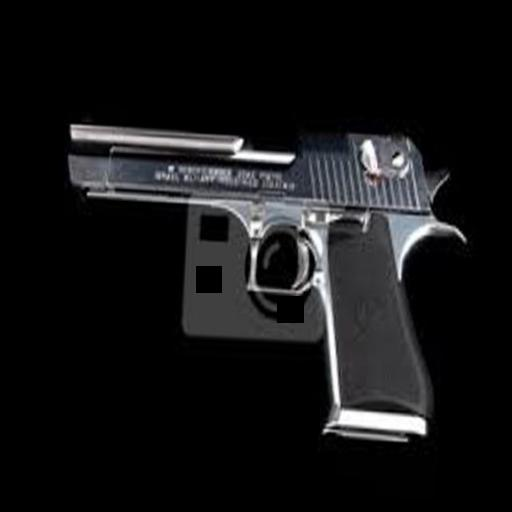Handgun: (48, 114, 474, 449)
